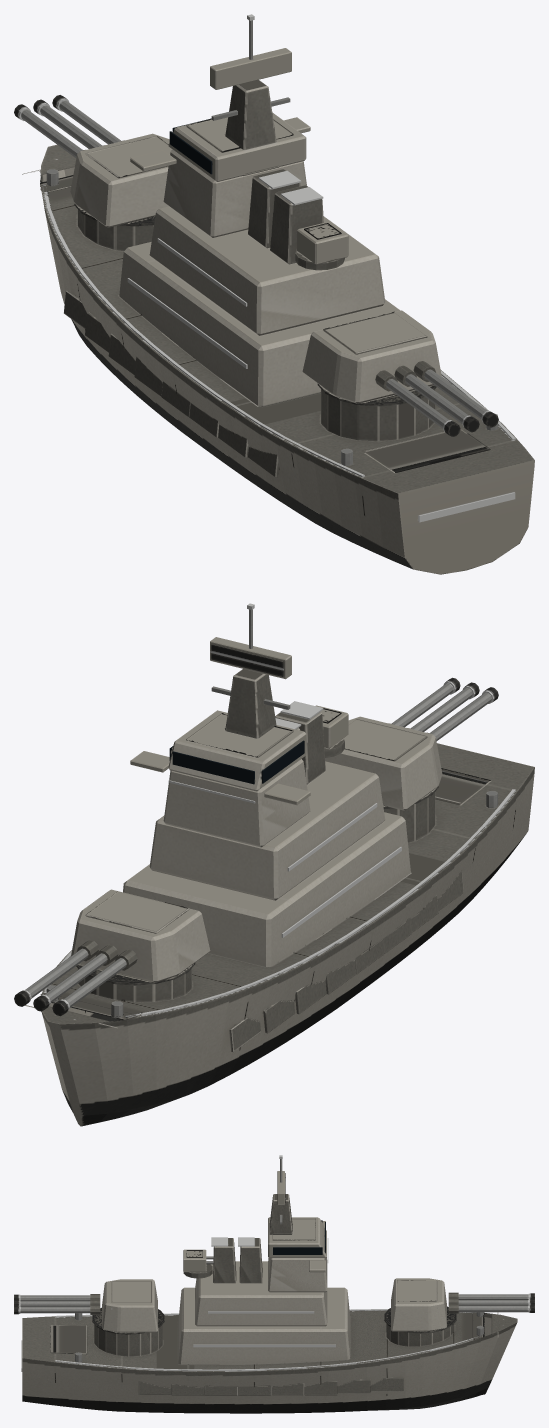
The model's file is ord_dominion.fbx.
3 renders of one model, top to bottom at view 1: azimuth 30°, elevation 25°; view 2: azimuth 150°, elevation 25°; view 3: azimuth 270°, elevation 25°, orthographic. The views are drawn at different scales.
Visible parts, largest first — view 1: base_bar, turret1_bar, base_glow_running_bar, turret2_bar, radar_bar, base_glow_power_bar; view 2: base_bar, turret1_bar, base_glow_running_bar, radar_bar, turret2_bar, base_glow_power_bar; view 3: base_bar, turret1_bar, base_glow_running_bar, turret2_bar, base_glow_power_bar.
Boxes of the visible parts, bbox=[...] form: base_bar: bbox=[22, 20, 534, 574]; turret1_bar: bbox=[14, 95, 172, 227]; base_glow_running_bar: bbox=[42, 14, 515, 522]; turret2_bar: bbox=[295, 221, 348, 270]; radar_bar: bbox=[210, 48, 291, 89]; base_glow_power_bar: bbox=[258, 170, 323, 205]; base_bar: bbox=[25, 609, 534, 1126]; turret1_bar: bbox=[14, 889, 210, 1016]; base_glow_running_bar: bbox=[44, 603, 515, 1018]; radar_bar: bbox=[210, 637, 291, 679]; turret2_bar: bbox=[316, 705, 348, 757]; base_glow_power_bar: bbox=[275, 701, 323, 729]; base_bar: bbox=[14, 1159, 517, 1413]; turret1_bar: bbox=[391, 1278, 534, 1331]; base_glow_running_bar: bbox=[21, 1155, 480, 1371]; turret2_bar: bbox=[183, 1249, 213, 1278]; base_glow_power_bar: bbox=[211, 1237, 254, 1246].
Bounding box in the file's own units: 840 × 1660 × 3140.
2 materials, 2 textured.
